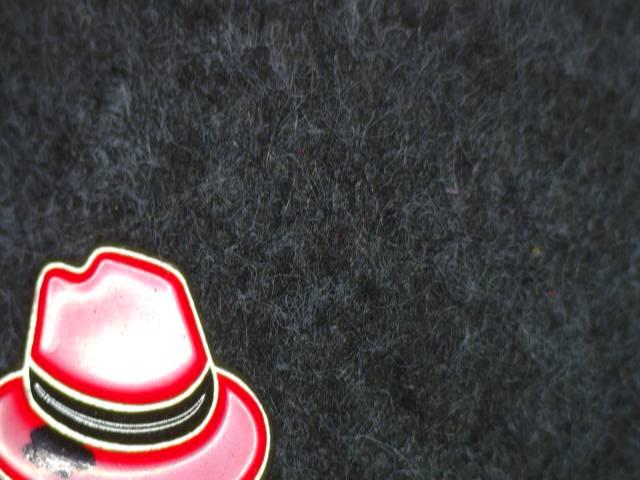Red-Hat: (0, 220, 301, 480)
Scratch: (13, 409, 105, 480)
